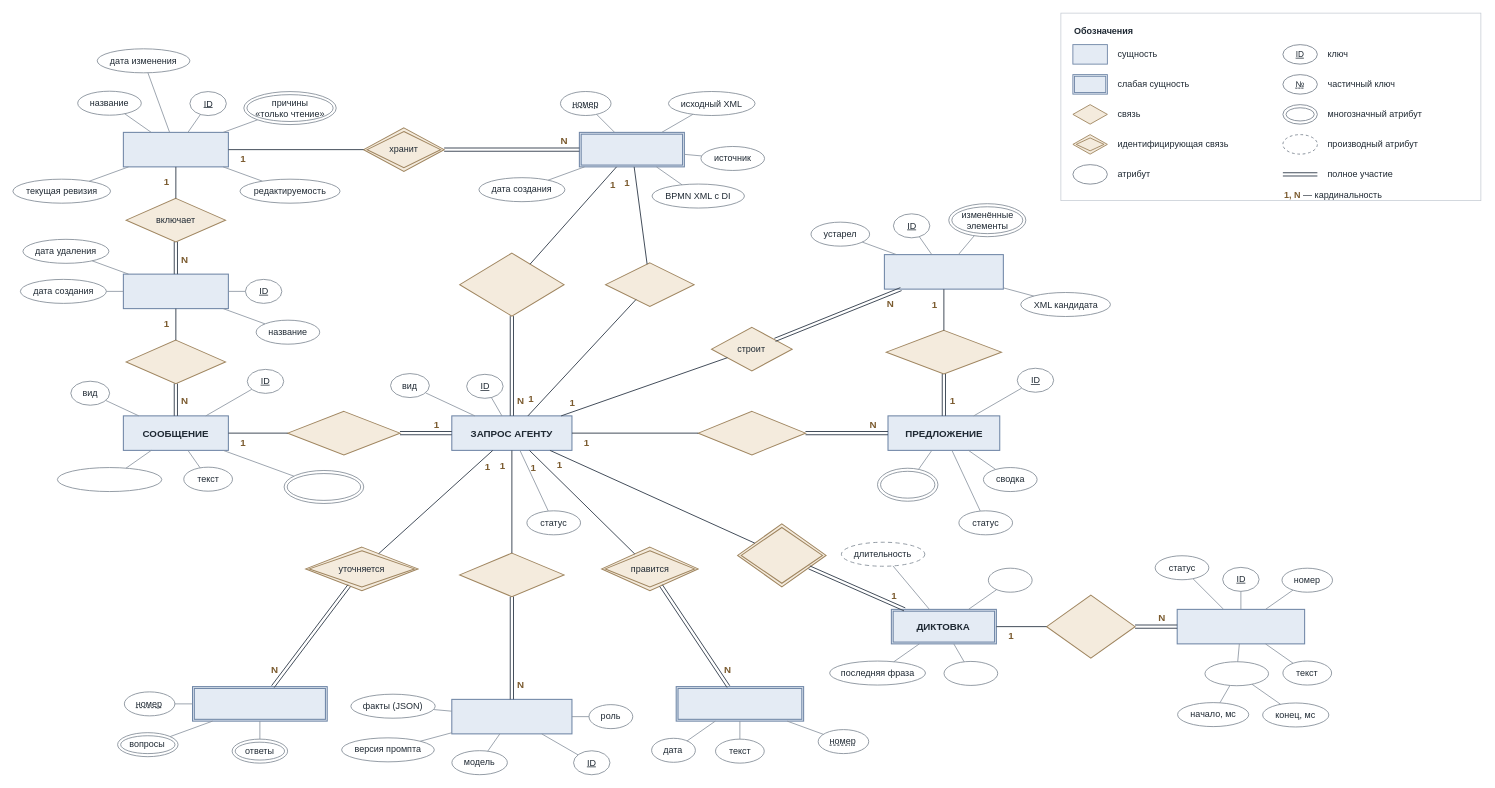
Image size: 1495x788. Some labels were removed from this diagram. Here are the shapes that lost their labels. From the top down, the centre of each, then its label:
At (x=175, y=149): "ДИАГРАММА".
At (x=631, y=149): "РЕВИЗИЯ".
At (x=175, y=291): "ЧАТ".
At (x=511, y=284): "опирается на".
At (x=649, y=284): "создаёт".
At (x=944, y=271): "ПРЕДПРОСМОТР".
At (x=175, y=361): "содержит".
At (x=943, y=351): "показывает".
At (x=343, y=432): "инициирует".
At (x=751, y=432): "формирует".
At (x=109, y=479): "порядковый номер".
At (x=323, y=487): "привязки к элементам".
At (x=907, y=484): "причины риска".
At (x=511, y=574): "сохраняет".
At (x=781, y=555): "ведётся как".
At (x=1010, y=579): "итог".
At (x=1090, y=626): "состоит из".
At (x=1240, y=626): "ФРАЗА ДИКТОВКИ".
At (x=970, y=673): "начало".
At (x=1236, y=673): "интервал".
At (x=259, y=703): "РАУНД УТОЧНЕНИЙ".
At (x=511, y=716): "АРТЕФАКТ РОЛИ".
At (x=739, y=703): "ПРАВКА ЗАПРОСА".
